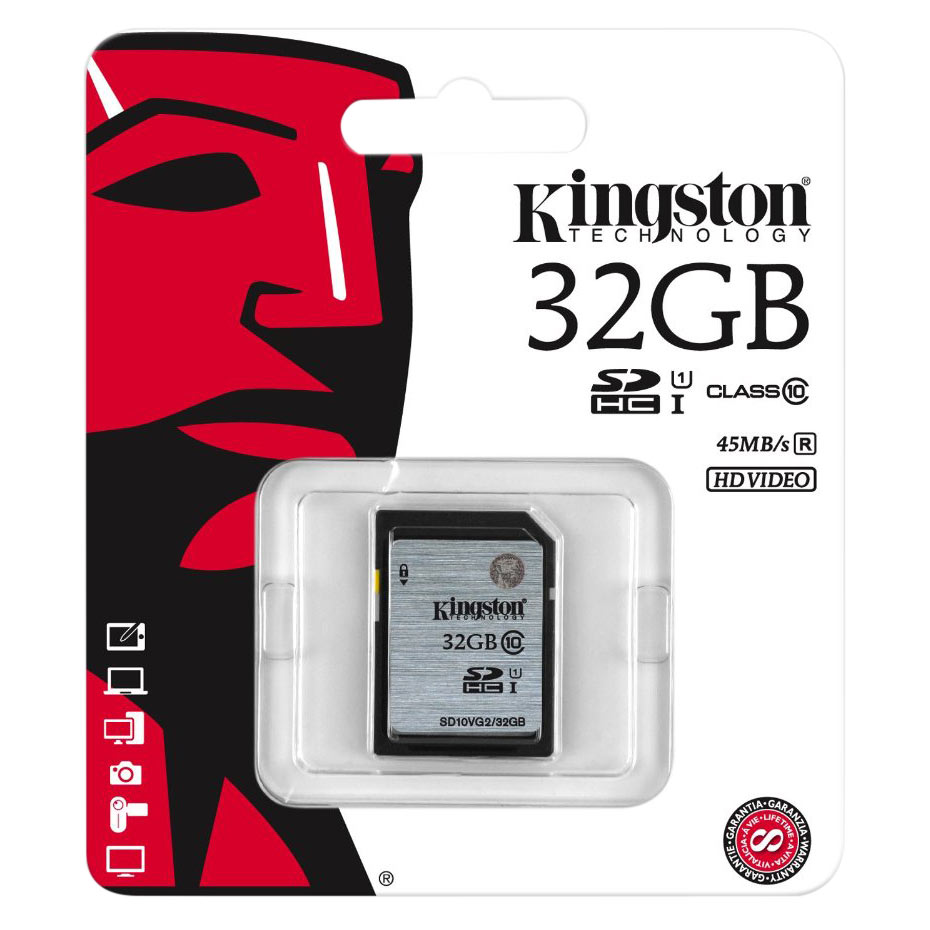Kingston: (502, 159, 825, 251), (430, 585, 535, 630)
